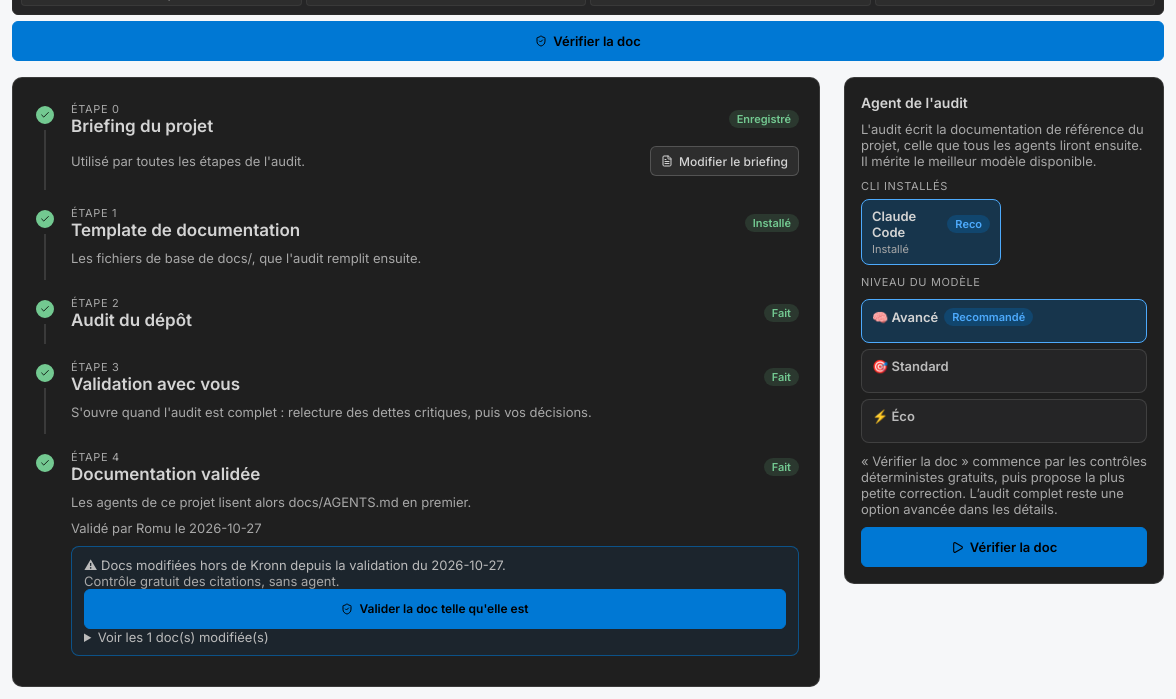
AuditTimeline — docs modified outside Kronn (KT-1489) › validates the current version directly and clears the banner
(page scrolled)
Click the button with test id "audit-timeline-validate-version".
click(435, 609)  # box [84, 589, 786, 629]
(page scrolled)
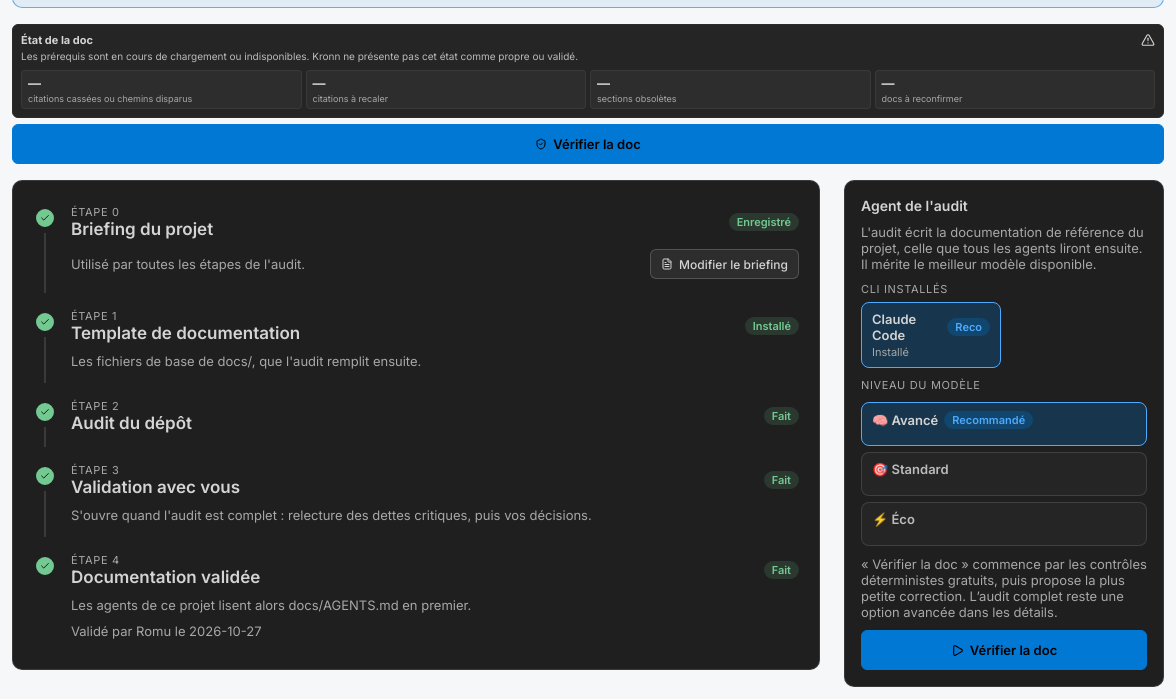
Expected: the message with test id "audit-timeline-outside-kronn" is gone
